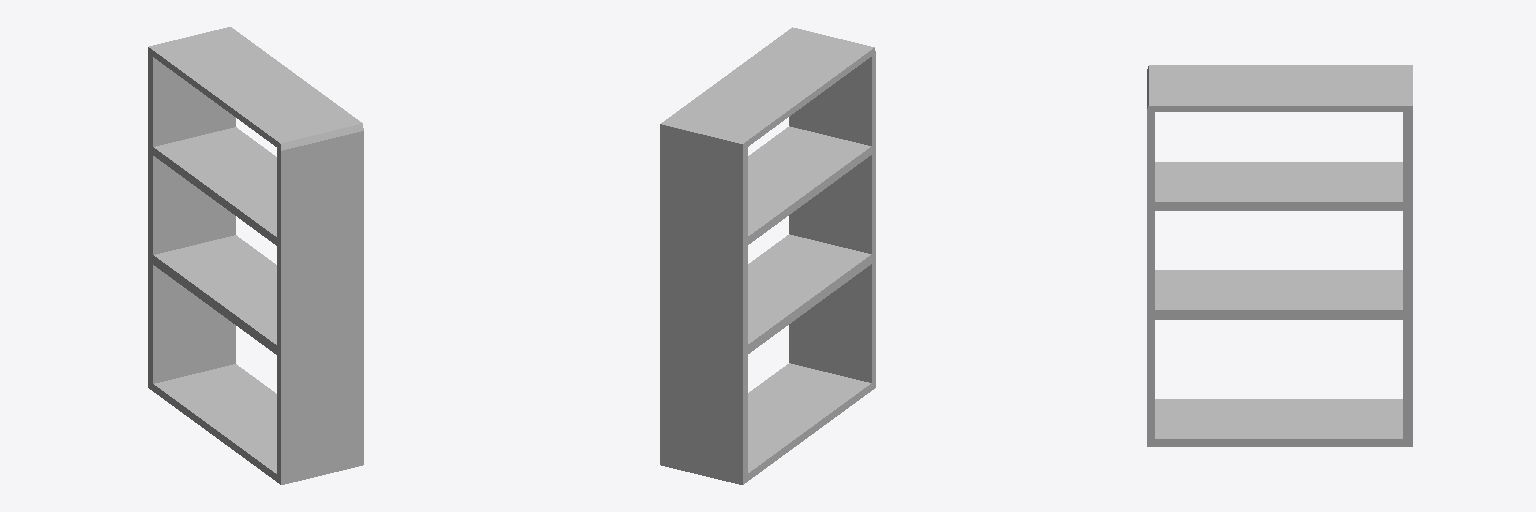
Rendered from shelf.obj.
3 views of the same model, side by side, from view 1: azimuth 30°, elevation 25°; view 2: azimuth 150°, elevation 25°; view 3: azimuth 270°, elevation 25° (orthographic).
Parts seen in each view (by area): view 1: Cube; view 2: Cube; view 3: Cube.
Part boxes in pixels (left/top/right/bottom): Cube: left=148, top=27, right=363, bottom=484; Cube: left=660, top=27, right=875, bottom=484; Cube: left=1147, top=65, right=1412, bottom=446.
Bounding box in the file's own units: 0.3015 × 1.19 × 0.844.